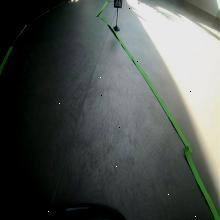crosswalk: (113, 0, 123, 9)
